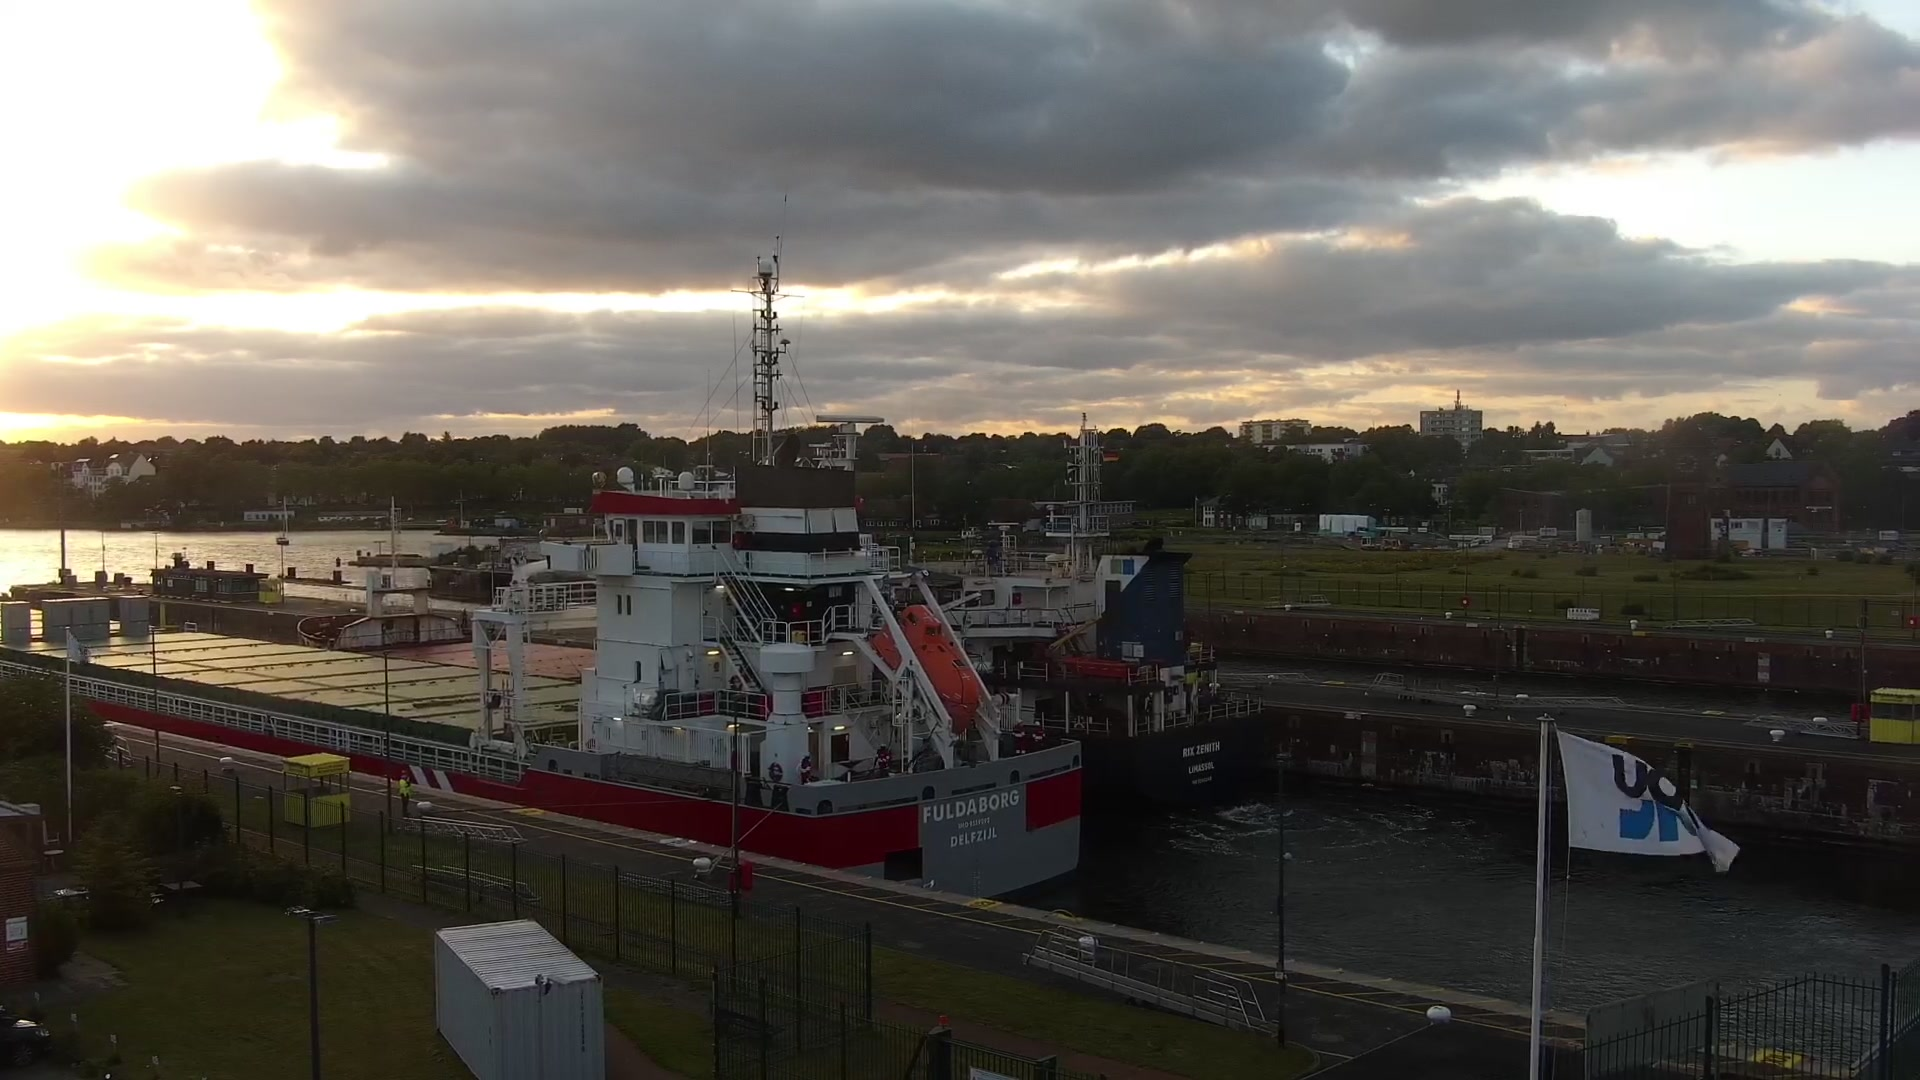human: (398, 768, 412, 821), (1010, 718, 1028, 756), (1029, 720, 1045, 753), (876, 743, 890, 777), (800, 752, 812, 787)
land: (1, 1009, 57, 1070), (1382, 537, 1411, 551), (1359, 535, 1381, 550)
sea: (1, 192, 1081, 899), (960, 406, 1263, 811)
